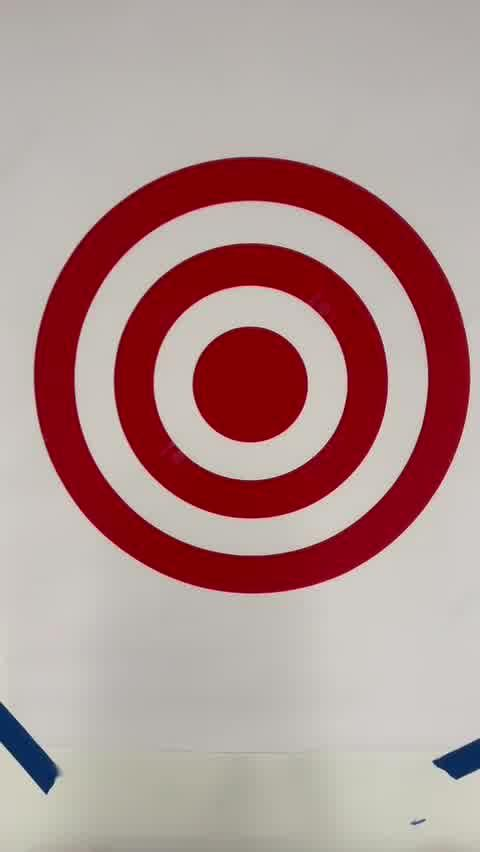target_red: (33, 156, 471, 596)
